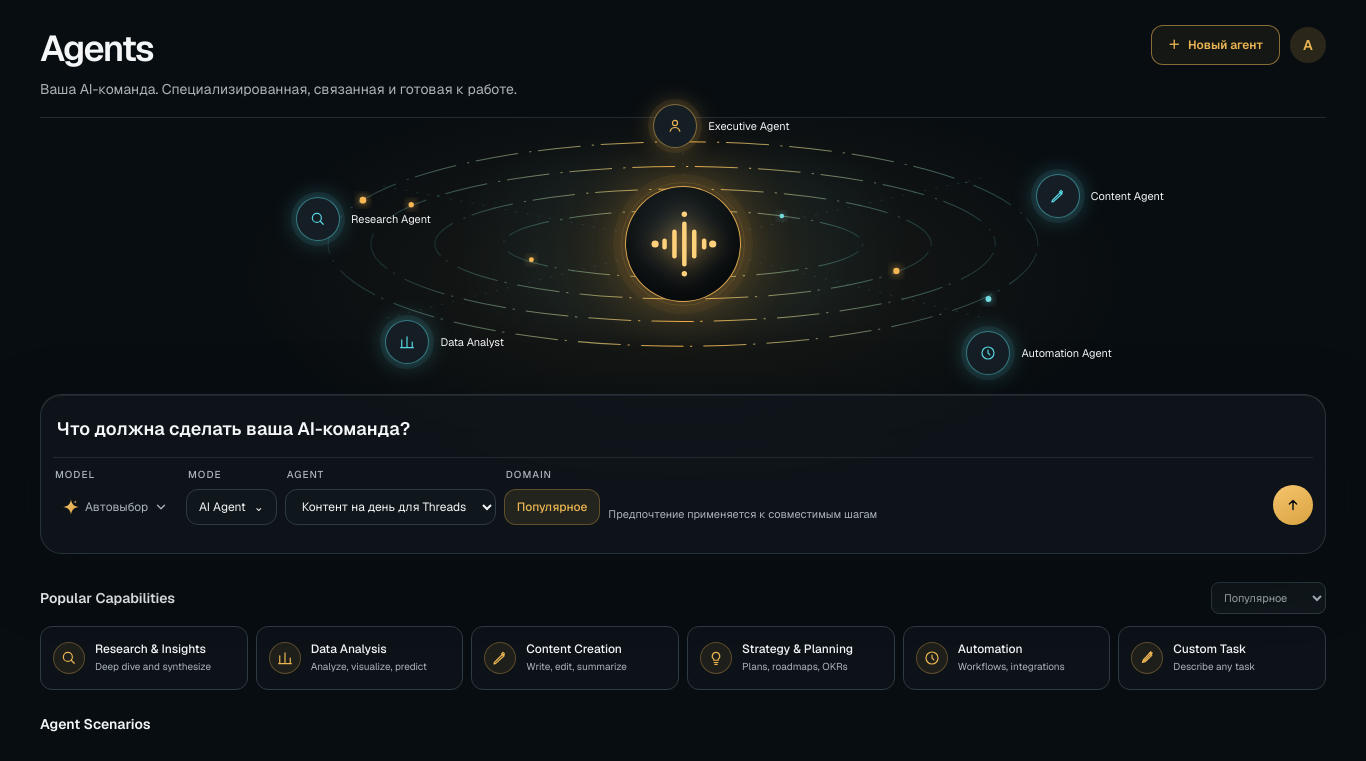
Test: AgentsPage › shows a Финансы tab and filters to the finance agent
Select "Финансы" in the dropdown named "Категория агентов" at (1268, 598), box [1211, 582, 1326, 614]
(page scrolled)
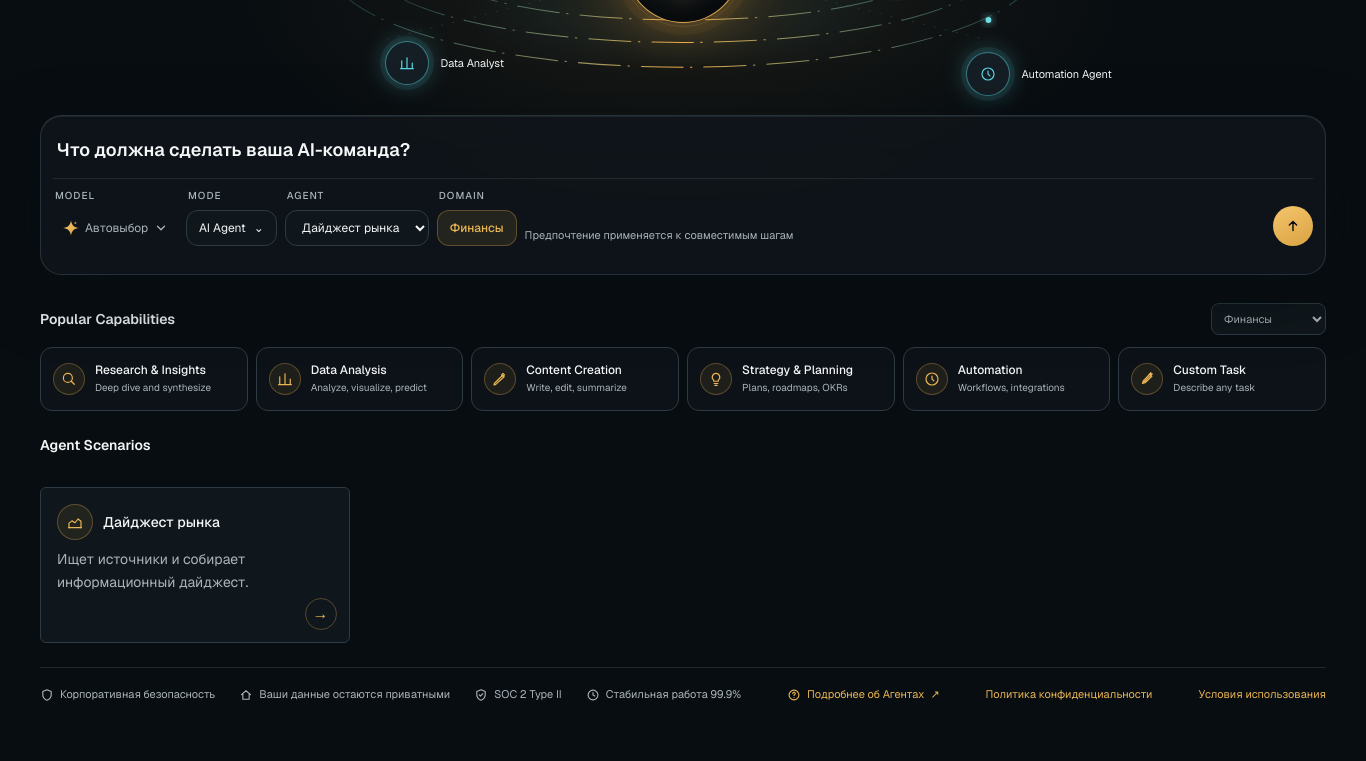
Expected: the link "Контент на день для Threads" is not shown
Result: the link "Дайджест рынка" is shown at [40, 487, 350, 643]
